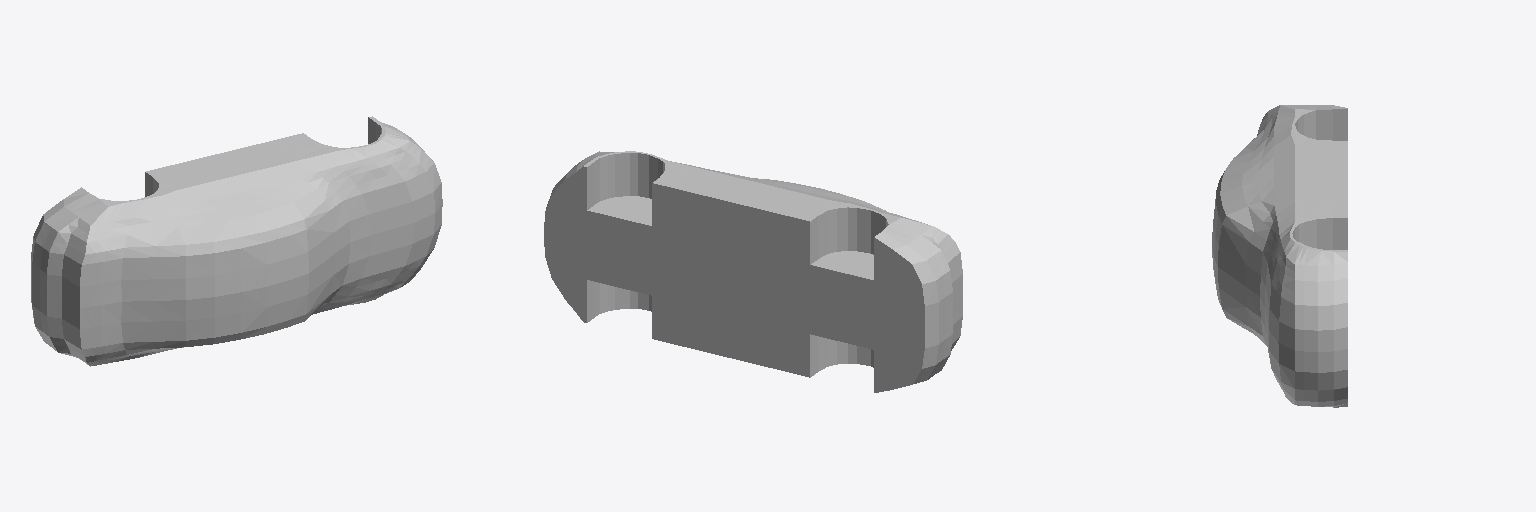
Rendered from sedan_chassis_col.obj.
3 views of the same model, side by side, from view 1: azimuth 30°, elevation 25°; view 2: azimuth 150°, elevation 25°; view 3: azimuth 270°, elevation 25° (orthographic).
Parts seen in each view (by area): view 1: sedan_chassis_collision.001_Plane; view 2: sedan_chassis_collision.001_Plane; view 3: sedan_chassis_collision.001_Plane.
Boxes of the visible parts, box(x1,y1,x2,y2) form: sedan_chassis_collision.001_Plane: box(31, 116, 442, 366); sedan_chassis_collision.001_Plane: box(544, 151, 962, 392); sedan_chassis_collision.001_Plane: box(1212, 105, 1347, 407).
Bounding box in the file's own units: 4.89 × 1.85 × 1.47.